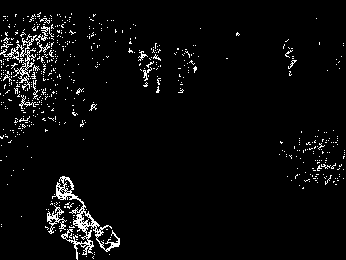person: (46, 175, 121, 260)
